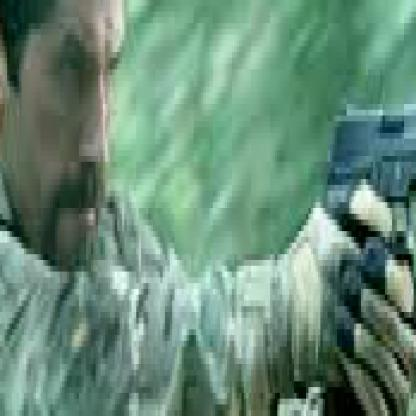gun: (180, 0, 290, 410)
